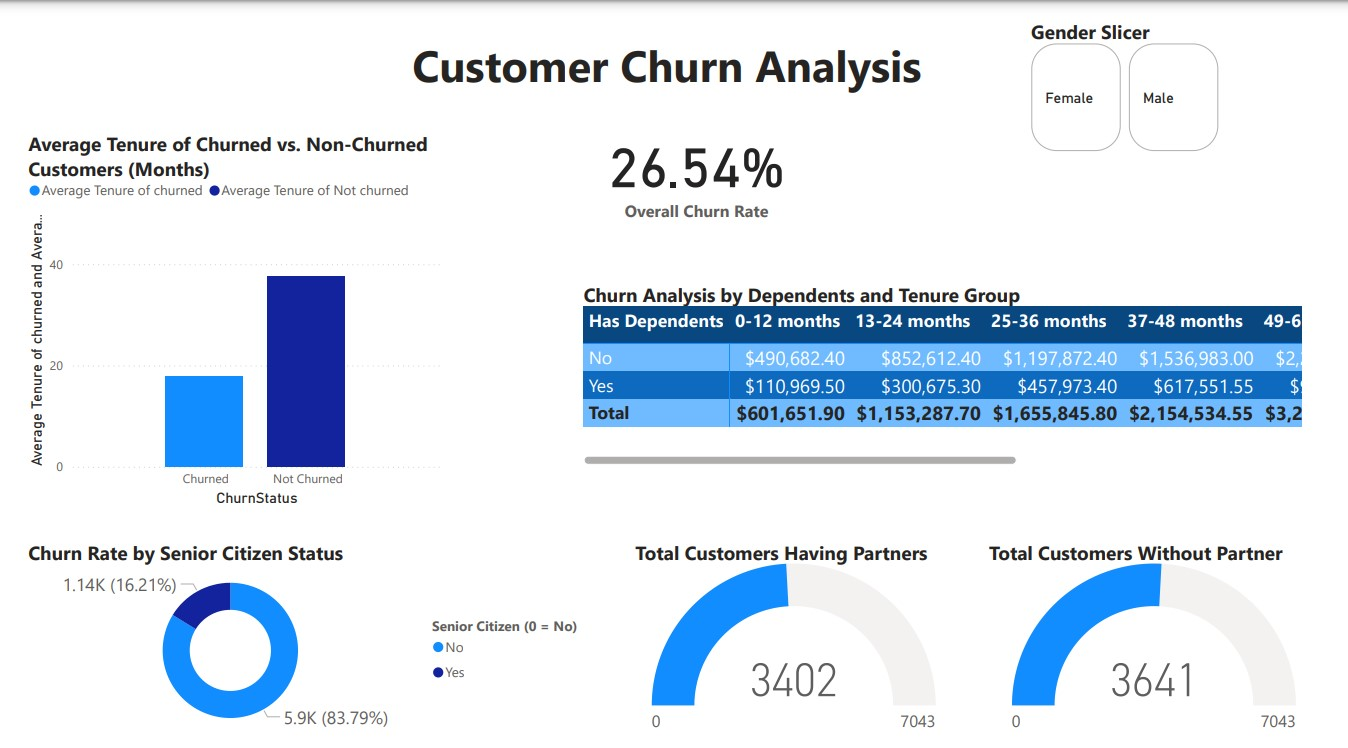

The page's visual inventory and layout, read from the dashboard file:
{"tool":"powerbi","page":{"name":"Page 1","canvas":[1280,720],"ordinal":0},"visuals":[{"type":"textbox","box":[360.9,18.9,544.3,75.6],"z":0},{"type":"card","fields":{"Values":["cleaned_telco_churn.Overall Churn Rate"]},"box":[512.1,94.5,300.5,126.6],"z":1000},{"type":"columnChart","title":"Average Tenure of Churned vs. Non-Churned Customers (Months)","fields":{"Y":["cleaned_telco_churn.Average Tenure of churned","cleaned_telco_churn.Average Tenure of Not churned"],"Category":["cleaned_telco_churn.ChurnStatus"]},"box":[0,117.2,415.8,374.2],"z":2000},{"type":"donutChart","title":"Churn Rate by Senior Citizen Status","fields":{"Category":["cleaned_telco_churn.SeniorCitizenText"],"Y":["CountNonNull(cleaned_telco_churn.SeniorCitizenText)"]},"box":[0,519.7,563.2,200.3],"z":3000},{"type":"gauge","title":"Total Customers Having Partners","fields":{"Y":["cleaned_telco_churn.Total Customers having partners"],"MaxValue":["CountNonNull(cleaned_telco_churn.customer_id)"]},"box":[597.2,519.7,321.3,200.3],"z":4000},{"type":"gauge","title":"Total Customers Without Partner","fields":{"Y":["cleaned_telco_churn.Total Customers not having partners"],"MaxValue":["CountNonNull(cleaned_telco_churn.customer_id)"]},"box":[944.9,519.7,334.5,200.3],"z":5000},{"type":"advancedSlicerVisual","fields":{"Values":["cleaned_telco_churn.gender"]},"box":[986.5,7.6,292.9,136.1],"z":6000},{"type":"pivotTable","title":"Churn Analysis by Dependents and Tenure Group","fields":{"Rows":["cleaned_telco_churn.DependentsText"],"Columns":["cleaned_churn.TenureGroup"],"Values":["cleaned_churn.TotalChargesSum"]},"box":[546.1,266.5,716.2,185.2],"z":7000}]}

Visuals, with their boxes in screenshot pixels (x1, y1, x2, y2), scaled from the page's 1280x720 canvas onto the 1348x748 screenshot:
textbox: pyautogui.locateOnScreen(380, 20, 953, 98)
card - cleaned_telco_churn.Overall Churn Rate: pyautogui.locateOnScreen(539, 98, 856, 230)
"Average Tenure of Churned vs. Non-Churned Customers (Months)" columnChart: pyautogui.locateOnScreen(0, 122, 438, 511)
"Churn Rate by Senior Citizen Status" donutChart: pyautogui.locateOnScreen(0, 540, 593, 747)
"Total Customers Having Partners" gauge: pyautogui.locateOnScreen(629, 540, 967, 747)
"Total Customers Without Partner" gauge: pyautogui.locateOnScreen(995, 540, 1347, 747)
advancedSlicerVisual - cleaned_telco_churn.gender: pyautogui.locateOnScreen(1039, 8, 1347, 149)
"Churn Analysis by Dependents and Tenure Group" pivotTable: pyautogui.locateOnScreen(575, 277, 1329, 469)
